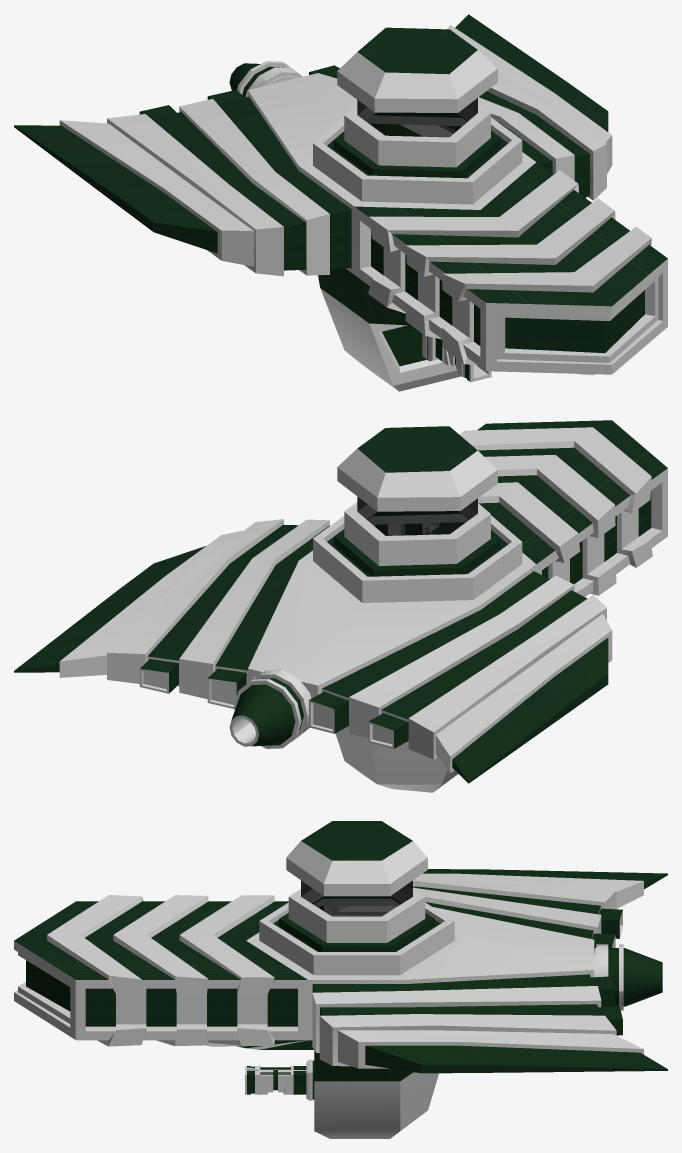
The model's file is DCB.fbx.
The picture shows the model from 3 angles, top to bottom: view 1: azimuth 30°, elevation 25°; view 2: azimuth 150°, elevation 25°; view 3: azimuth 270°, elevation 25°; orthographic projection. The views are drawn at different scales.
Visible parts, largest first — view 1: DCB; view 2: DCB; view 3: DCB.
Boxes of the visible parts, <box> form: DCB: <box>14,14,667,391</box>; DCB: <box>14,420,667,792</box>; DCB: <box>14,821,667,1138</box>.
Size of the model in its own units: 6.01 by 4.06 by 8.49.
